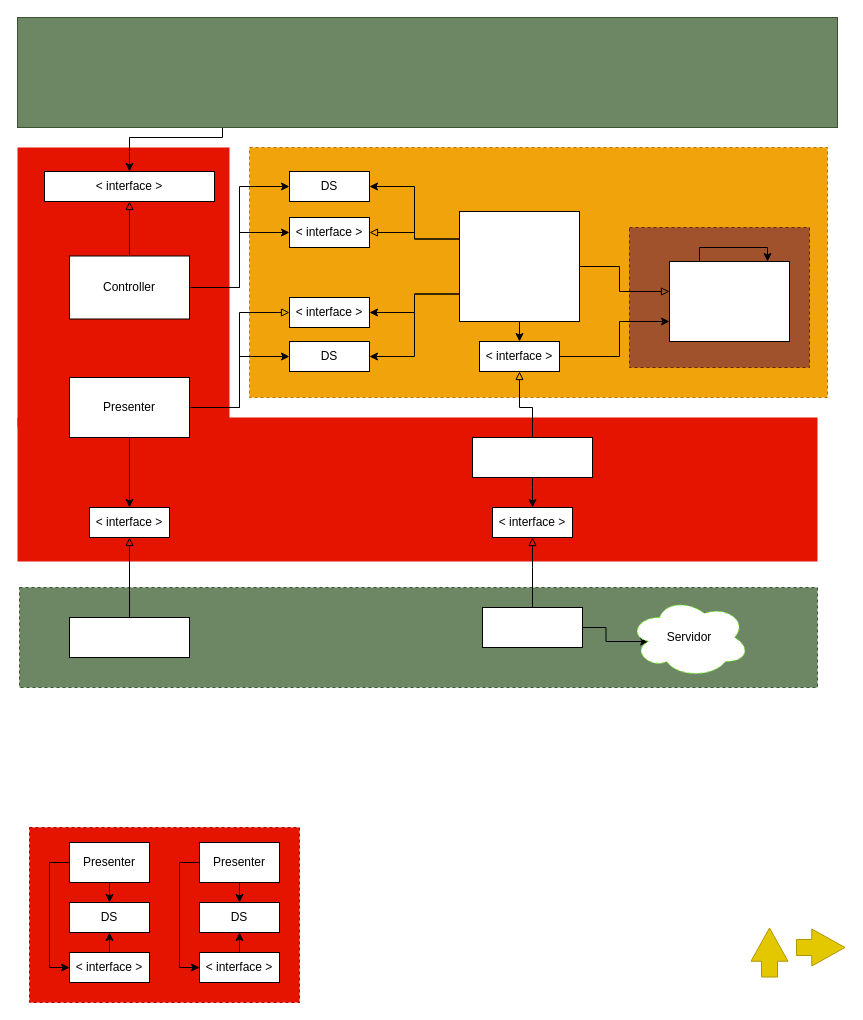
Image size: 863x1020. Some labels were removed from this diagram. Here are the shapes that lost their labels. From the top down, the centre of each, then its label:
point 427,72: ANGULAR
point 519,266: UseCase
point 729,301: Entidades
point 532,457: Getway
point 129,637: View
point 532,627: API
